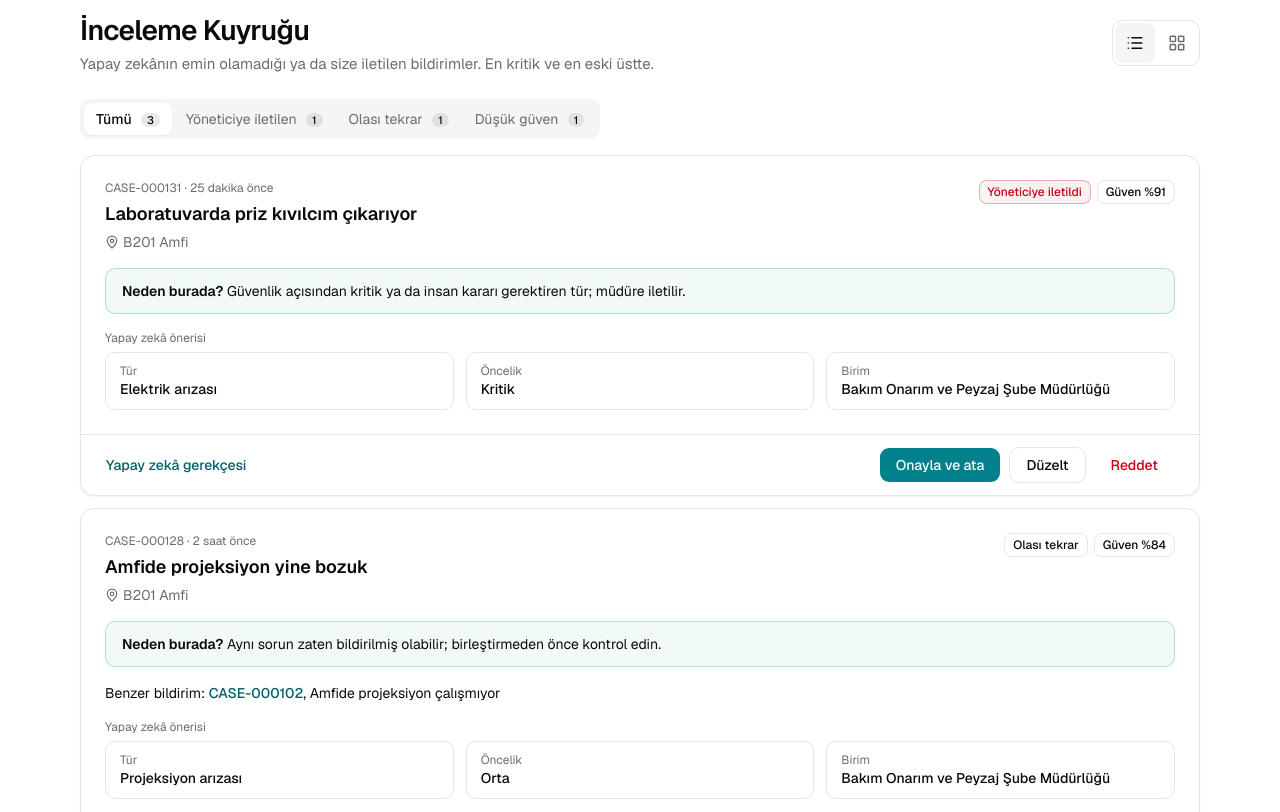
Scenario: ReviewQueue › approves the suggestion and assigns the case to the suggested department
What coordinates should you click on to do the following:
click the button "Onayla ve ata"
I would click on:
 (940, 465)
Its box is 879,447 -> 1001,483.
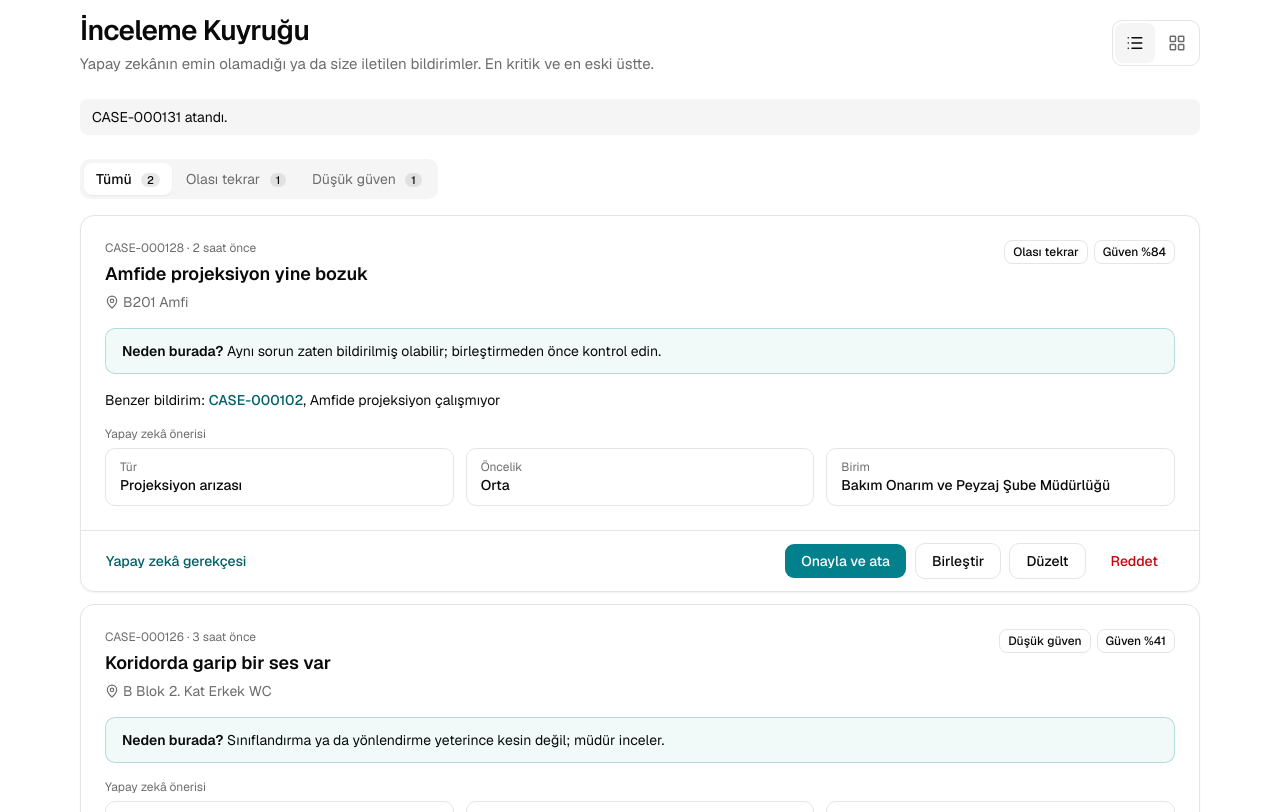
Check: the heading "Laboratuvarda priz kıvılcım çıkarıyor" is gone
Check: the message reads "CASE-000131 atandı.", box 92,108 -> 227,126
